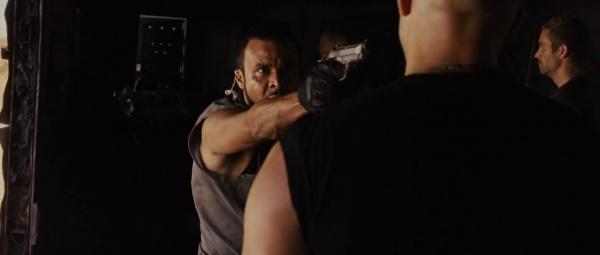Gun: (316, 40, 369, 74)
